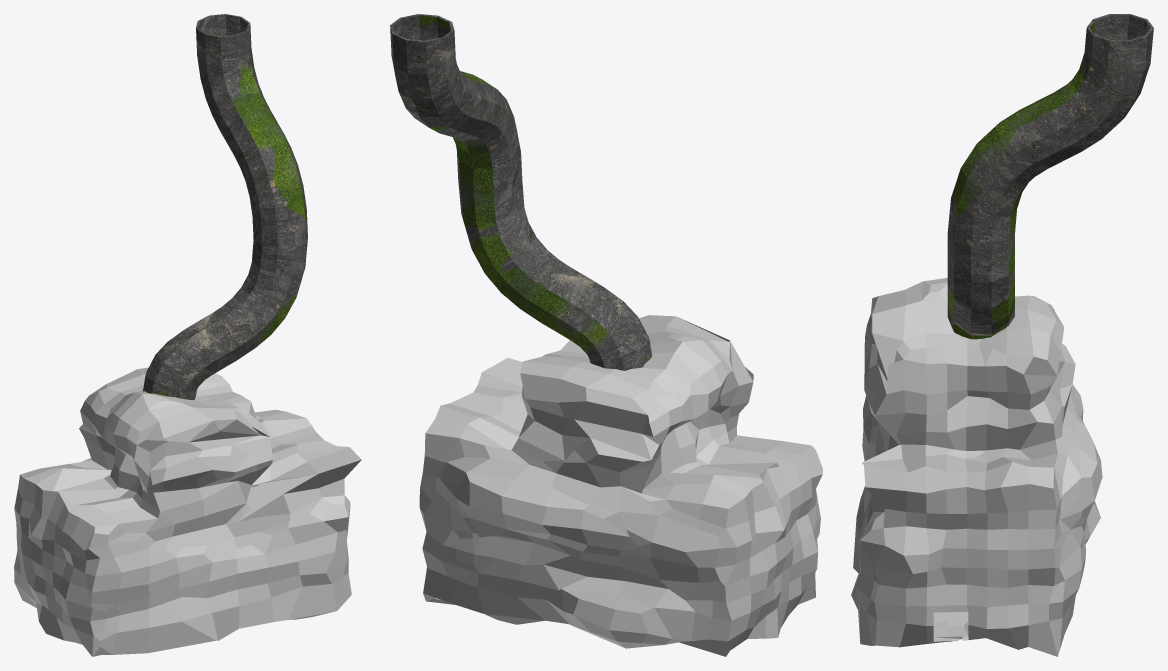
Rendered from Big Cave I.fbx.
The picture shows the model from 3 angles, left to right: view 1: azimuth 30°, elevation 25°; view 2: azimuth 150°, elevation 25°; view 3: azimuth 270°, elevation 25°; orthographic projection. The views are drawn at different scales.
Visible parts, largest first — view 1: Big Cave IV, Tunnel; view 2: Big Cave IV, Tunnel; view 3: Big Cave IV, Tunnel.
Boxes of the visible parts, x1,y1,x2,y2 form: Big Cave IV: (14,367,361,656); Tunnel: (143,14,307,399); Big Cave IV: (419,315,822,656); Tunnel: (390,14,652,370); Big Cave IV: (851,278,1102,656); Tunnel: (947,14,1153,339).
Bounding box in the file's own units: 4612 × 7834 × 3487.
